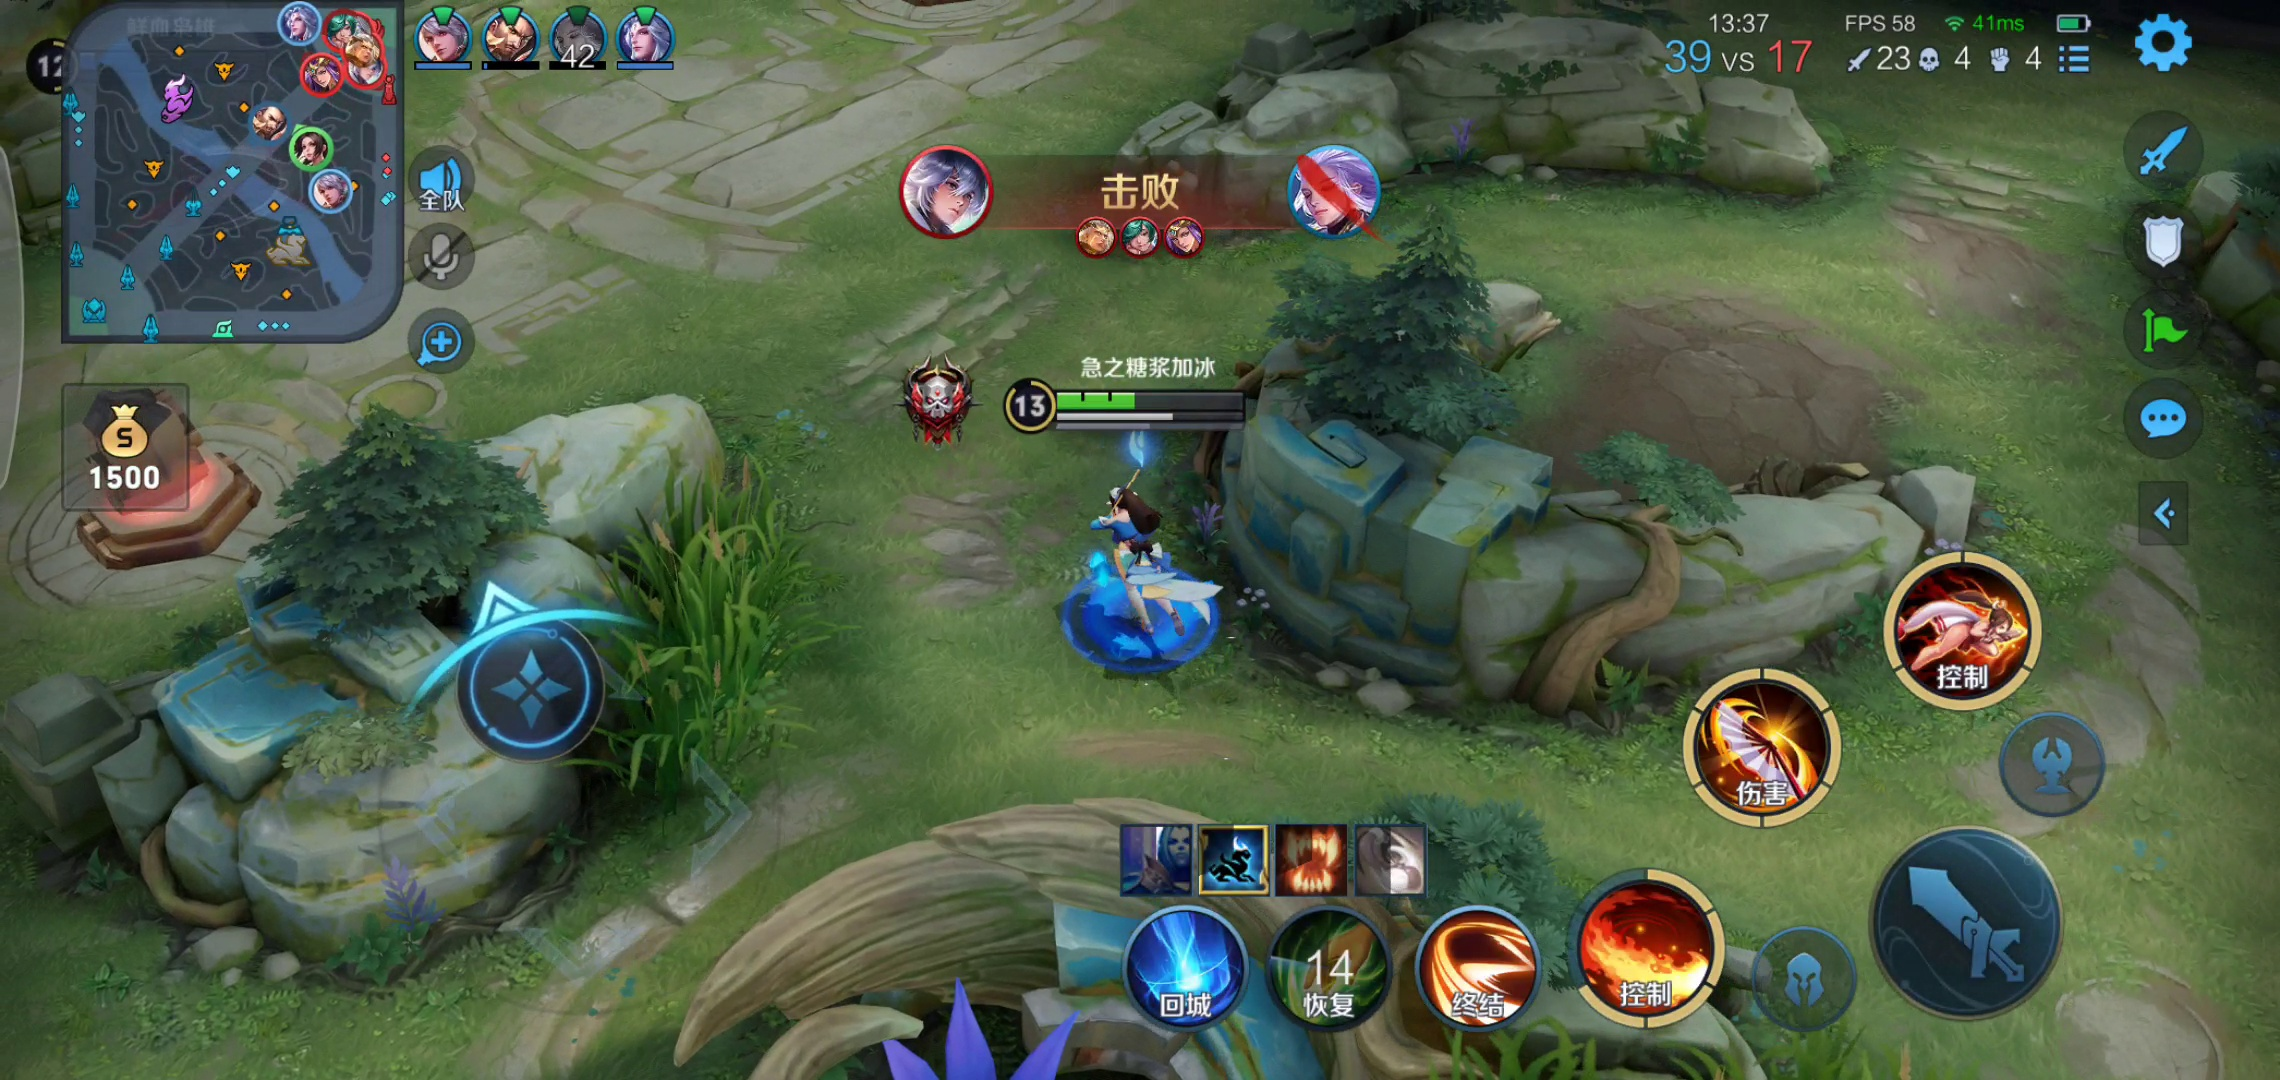grass: (554, 462, 826, 785)
hero: (1040, 459, 1237, 670)
tower: (39, 387, 279, 564)
